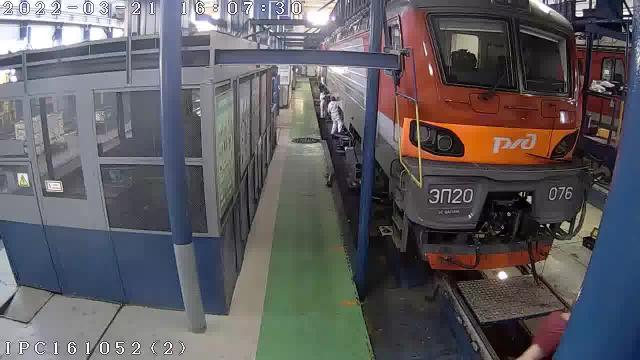person: (517, 312, 570, 359), (328, 96, 343, 134), (320, 85, 328, 118)
train: (376, 0, 590, 269)
